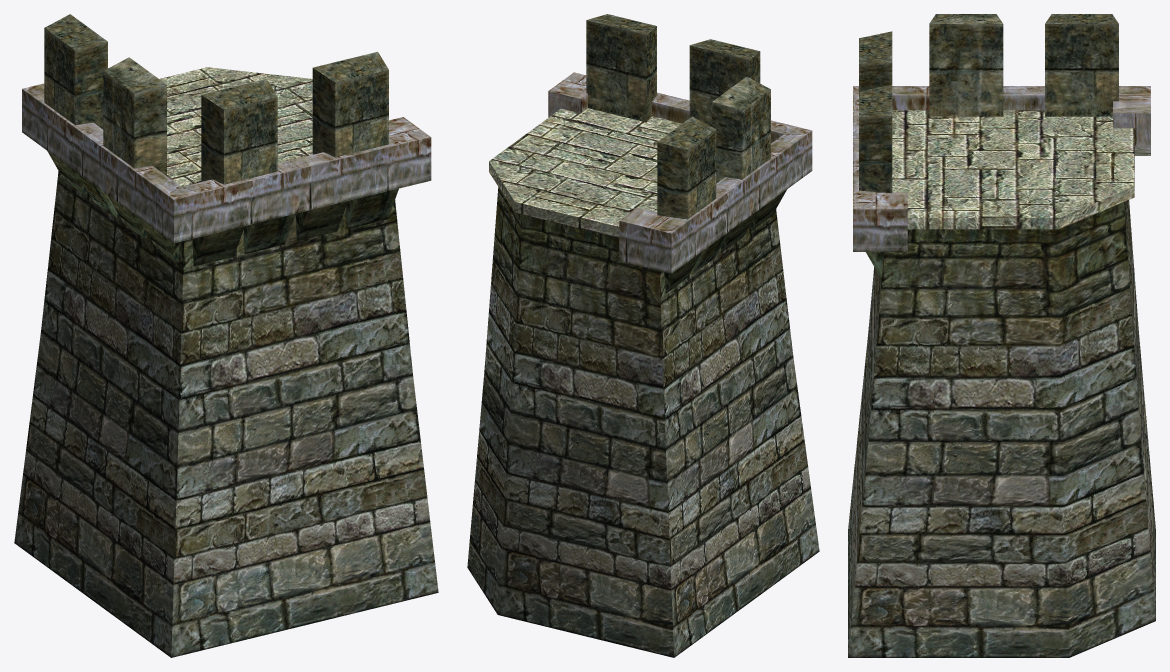
3 views of the same model, side by side, from view 1: azimuth 30°, elevation 25°; view 2: azimuth 150°, elevation 25°; view 3: azimuth 270°, elevation 25° (orthographic). The views are drawn at different scales.
Visible parts, largest first — view 1: cc93-col; view 2: cc93-col; view 3: cc93-col.
Part boxes in pixels (box(x1,y1,x2,y2)): cc93-col: box(14, 14, 438, 657); cc93-col: box(467, 14, 819, 657); cc93-col: box(848, 14, 1155, 657).
Bounding box in the file's own units: 5.23 × 9.98 × 5.32.
Materials: 7 (7 with a texture image).
